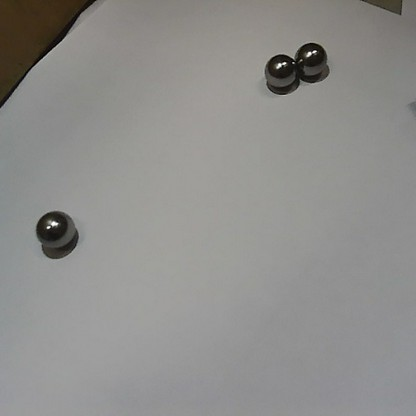ironball: (29, 207, 83, 255), (292, 38, 336, 80), (261, 53, 305, 95)
